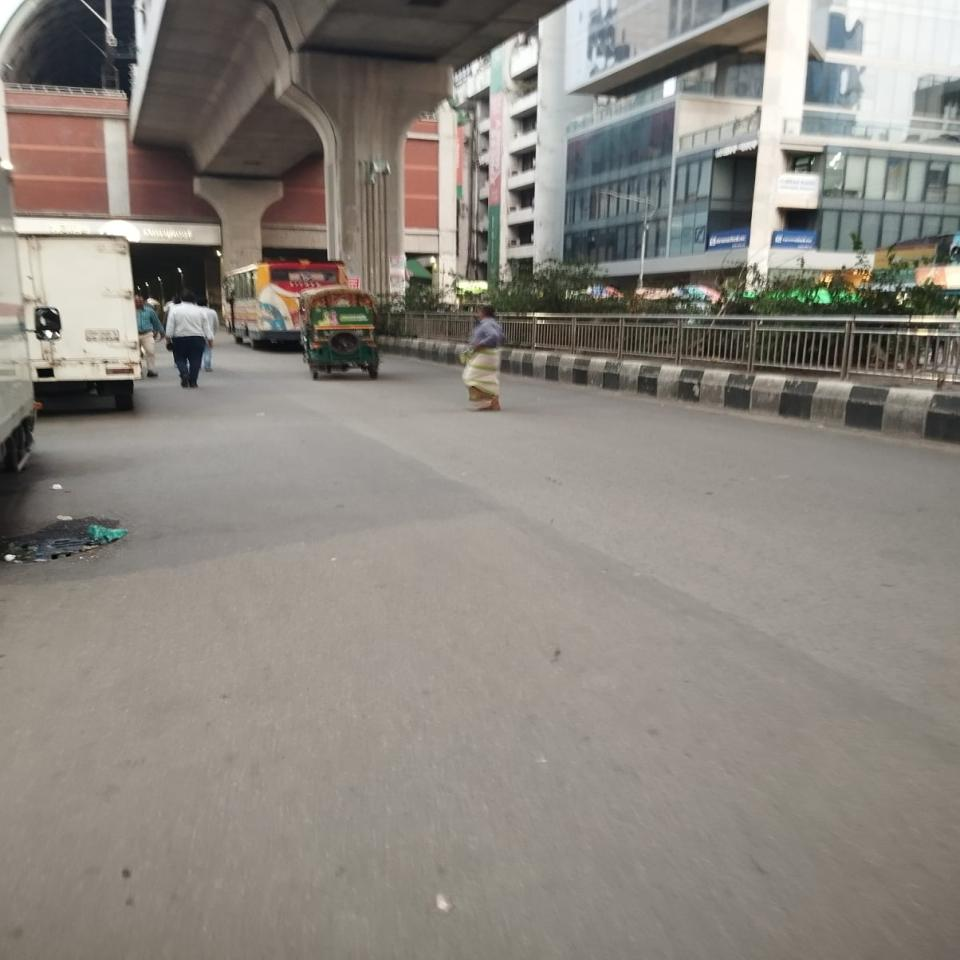person: (165, 290, 215, 389), (460, 306, 505, 412), (135, 295, 164, 379)
